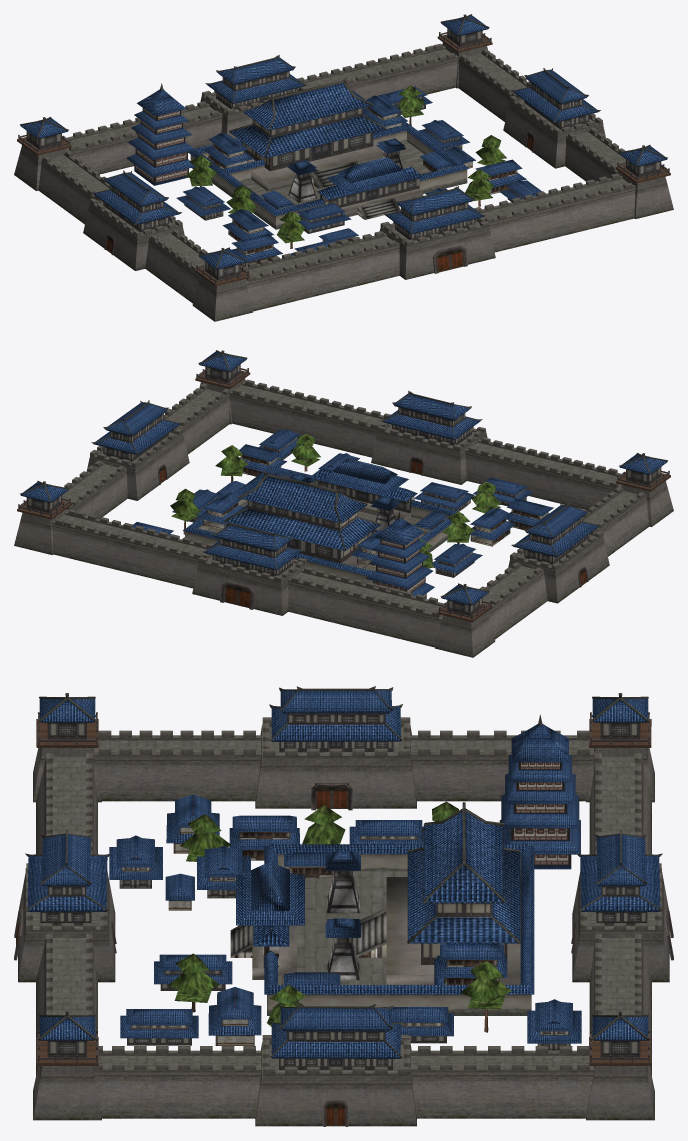
The model's file is CASTLE_blue.fbx.
3 views of the same model, one above another, from view 1: azimuth 30°, elevation 25°; view 2: azimuth 150°, elevation 25°; view 3: azimuth 270°, elevation 25° (orthographic). The views are drawn at different scales.
Visible parts, largest first — view 1: polySurface22449_lambert26_0.003; view 2: polySurface22449_lambert26_0.003; view 3: polySurface22449_lambert26_0.003.
Boxes of the visible parts, x1,y1,x2,y2 form: polySurface22449_lambert26_0.003: [14, 14, 673, 321]; polySurface22449_lambert26_0.003: [14, 350, 673, 657]; polySurface22449_lambert26_0.003: [14, 686, 673, 1126].
Size of the model in its own units: 39296 by 7353 by 30428.
